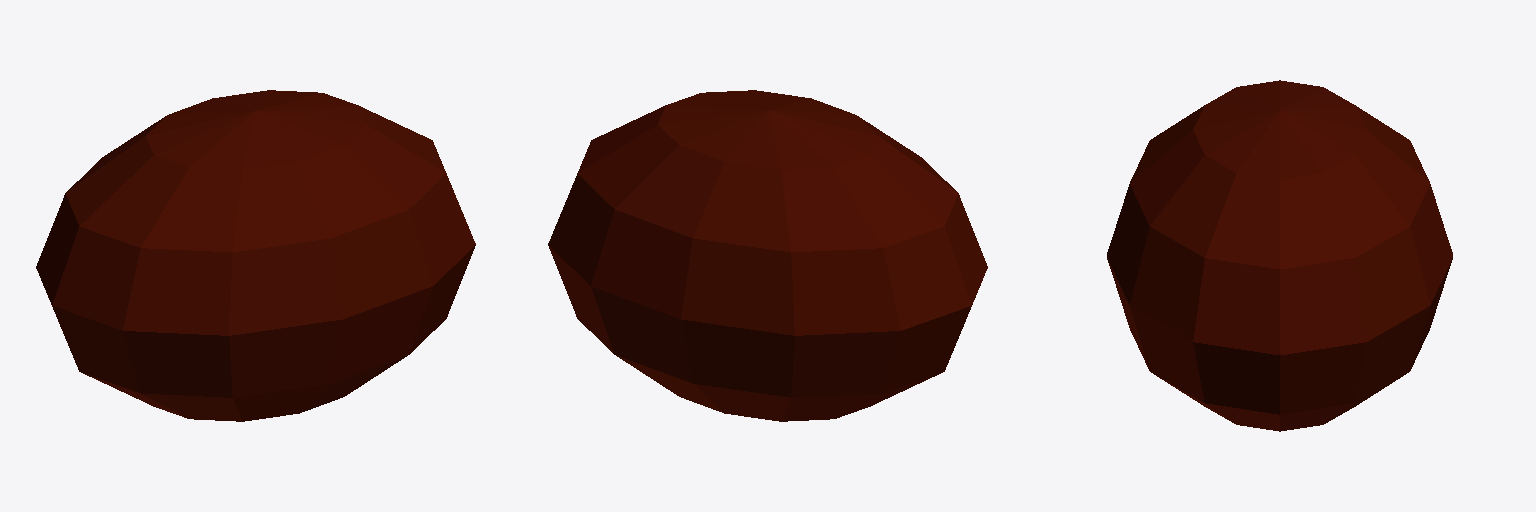
Rendered from EatenWideBack.obj.
3 renders of one model, left to right at view 1: azimuth 30°, elevation 25°; view 2: azimuth 150°, elevation 25°; view 3: azimuth 270°, elevation 25°, orthographic.
Parts seen in each view (by area): view 1: pSphere4; view 2: pSphere4; view 3: pSphere4.
Part boxes in pixels (left/top/right/bottom): pSphere4: left=36, top=90, right=475, bottom=421; pSphere4: left=548, top=90, right=987, bottom=421; pSphere4: left=1107, top=80, right=1452, bottom=431.
Bounding box in the file's own units: 10.56 × 7.19 × 7.78.